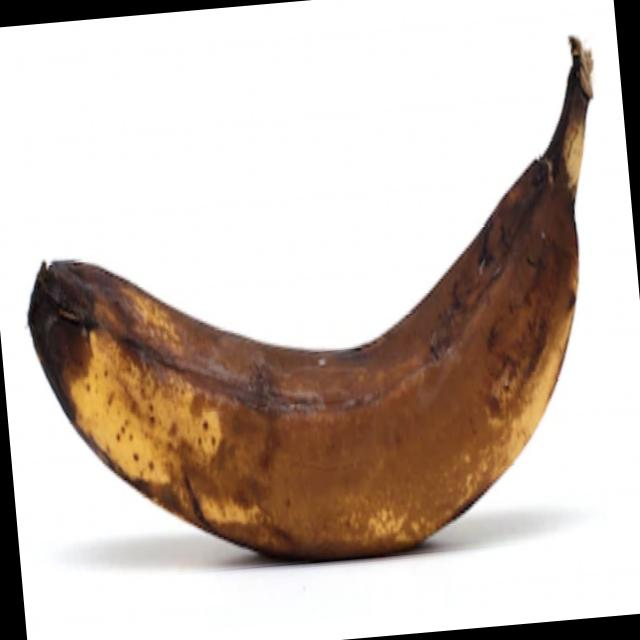rotten-banana: (3, 29, 635, 592)
